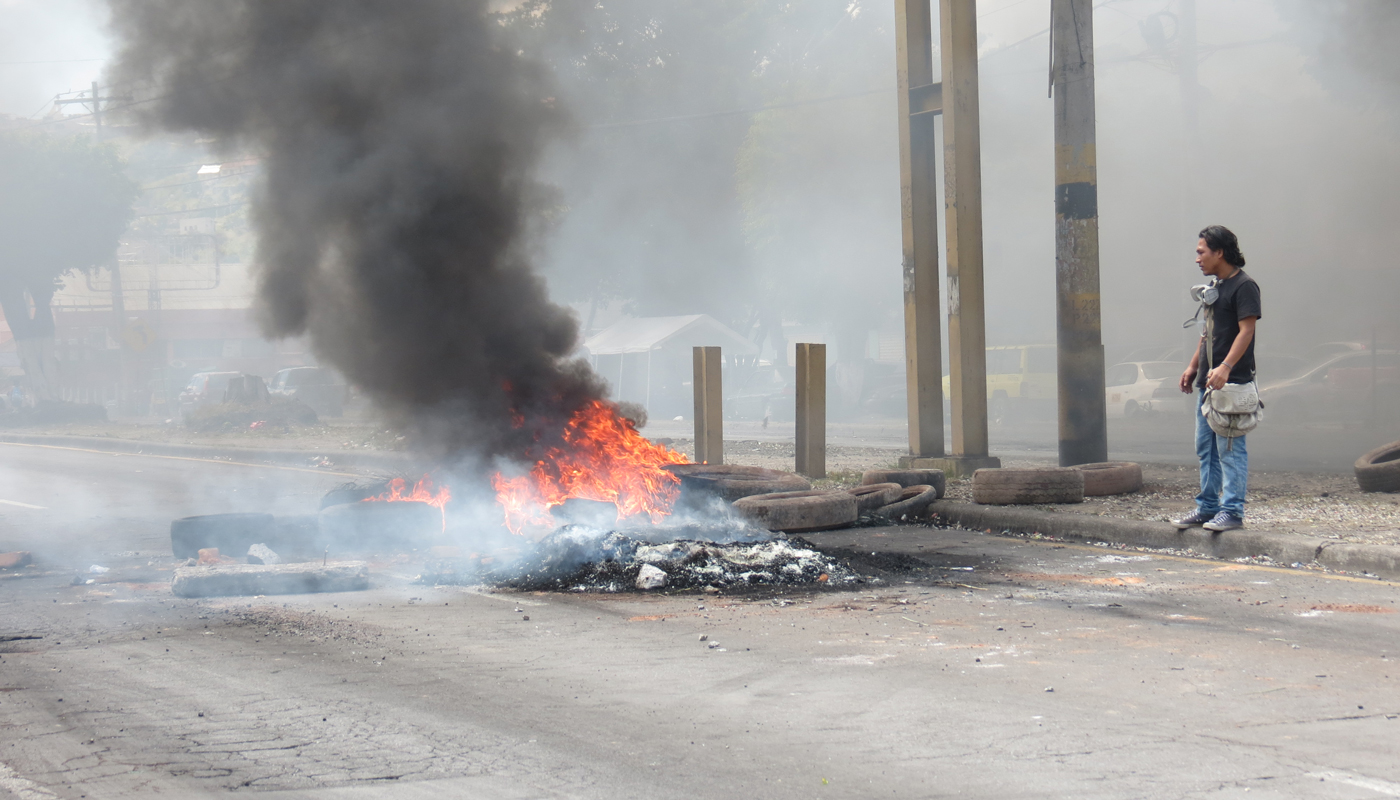fire: (555, 412, 682, 516)
smoke: (236, 26, 546, 389), (603, 22, 872, 332), (40, 466, 337, 577)
